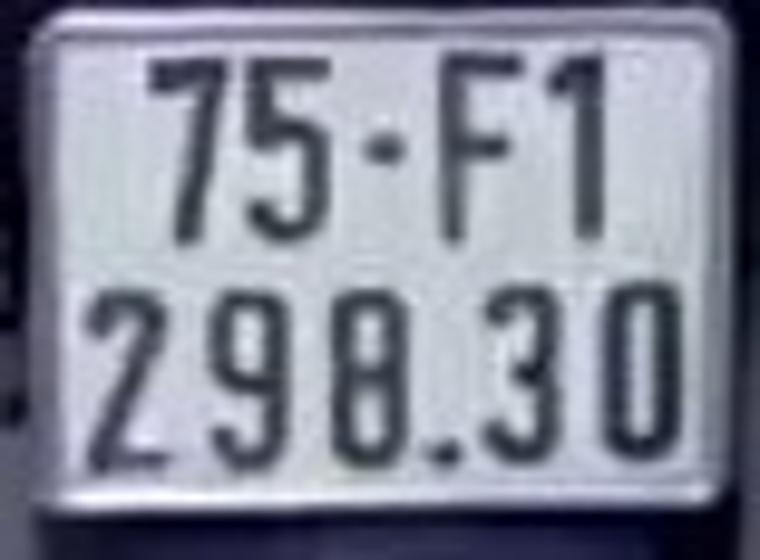-: (356, 129, 412, 166)
.: (426, 432, 463, 474)
0: (598, 280, 687, 458)
1: (548, 47, 613, 247)
2: (79, 284, 178, 482)
3: (481, 278, 569, 467)
5: (246, 55, 330, 251)
7: (148, 52, 235, 242)
8: (327, 289, 415, 477)
9: (201, 284, 295, 477)
F: (432, 45, 524, 248)
